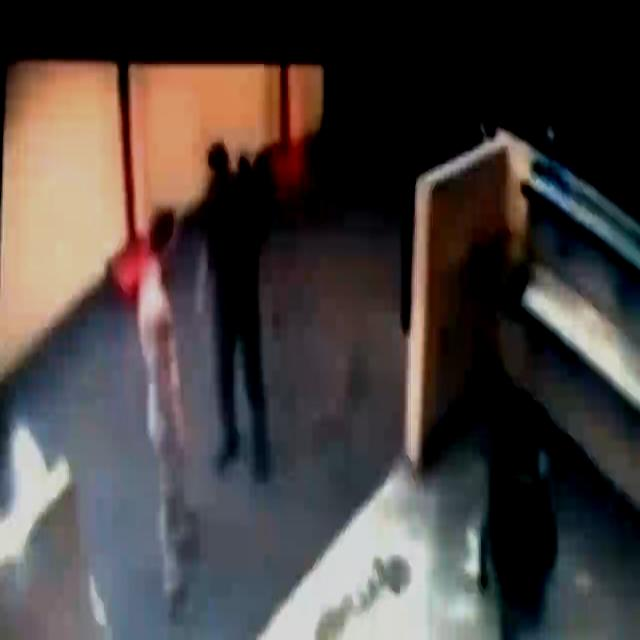fight: (135, 132, 284, 618)
